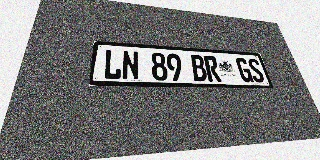8: (151, 52, 168, 81)
9: (166, 53, 184, 81)
B: (190, 55, 208, 81)
G: (235, 58, 254, 82)
L: (103, 49, 122, 80)
N: (122, 50, 139, 80)
R: (203, 55, 222, 82)
S: (246, 58, 266, 83)
